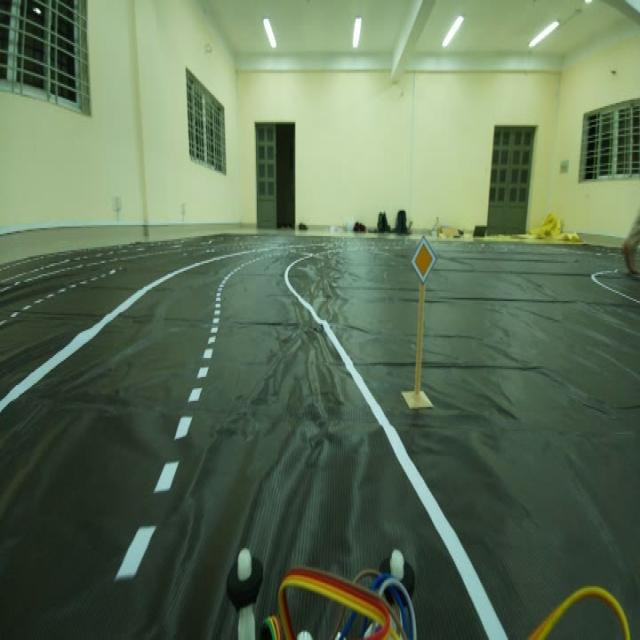priority: (406, 221, 443, 292)
